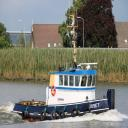tugboat: (10, 13, 116, 125)
